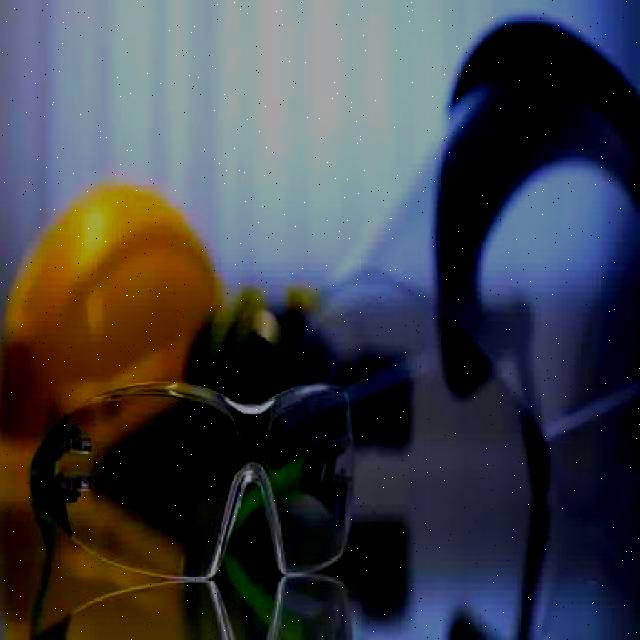Helmet: (0, 186, 226, 505)
